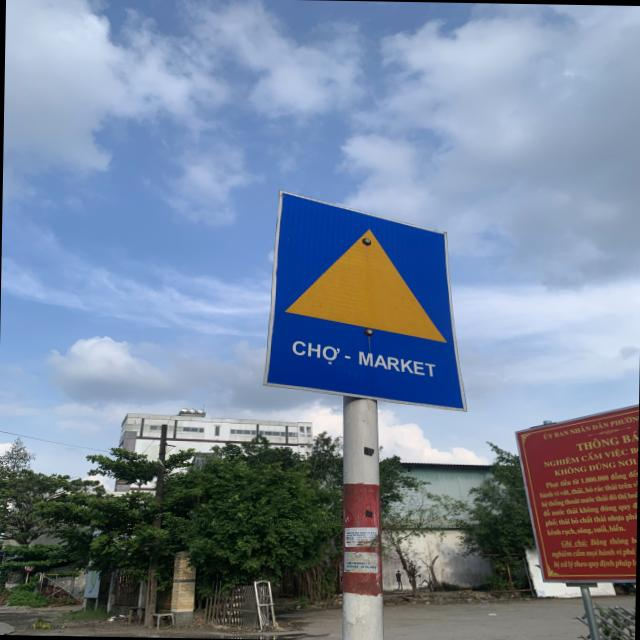Cho_Quay_Xe: (265, 189, 475, 411)
